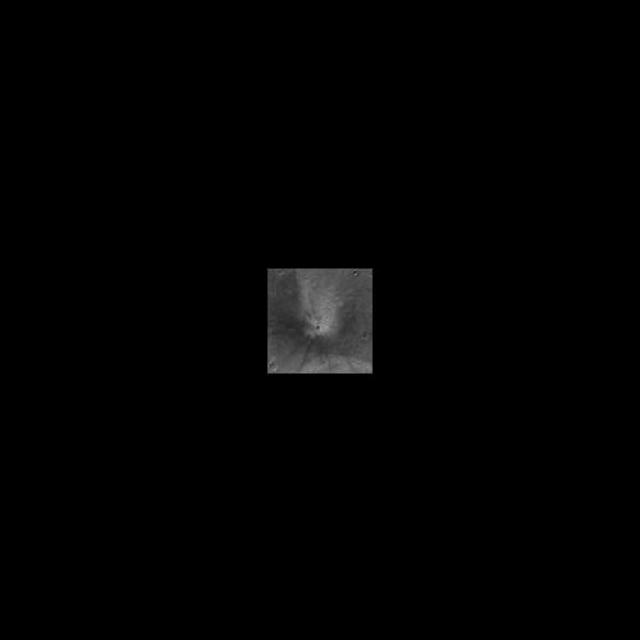crater: (268, 358, 280, 372), (352, 268, 360, 276), (314, 324, 322, 330)
